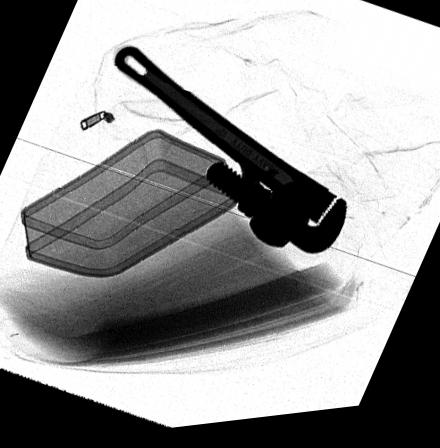Wrench: (110, 46, 348, 262)
